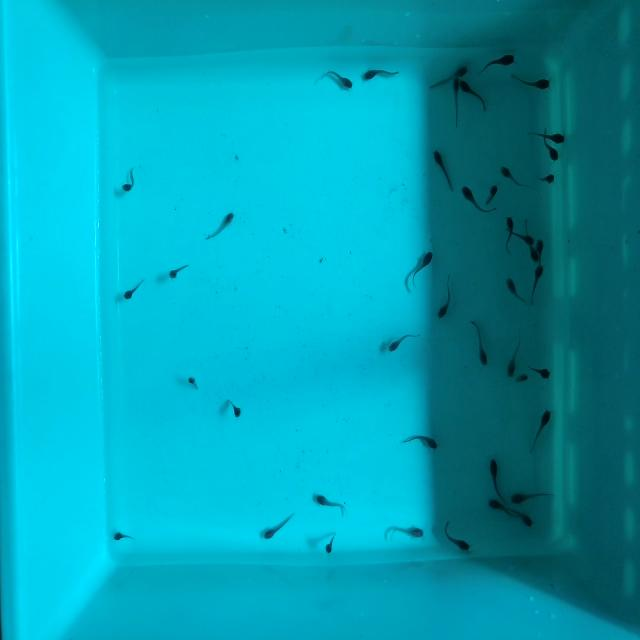lele: (460, 181, 498, 217), (526, 406, 552, 451), (406, 248, 435, 288), (474, 50, 518, 76), (466, 318, 488, 370), (205, 209, 238, 243), (457, 77, 490, 111), (427, 66, 467, 94), (430, 148, 456, 191), (262, 513, 298, 544), (440, 520, 473, 553), (504, 276, 534, 312), (436, 273, 457, 324), (497, 164, 531, 194), (536, 127, 561, 165), (386, 328, 421, 355), (506, 334, 526, 381), (323, 68, 358, 94), (486, 456, 506, 500), (312, 491, 347, 516), (510, 72, 552, 92), (526, 127, 567, 147), (400, 431, 440, 451), (528, 264, 546, 306), (120, 277, 148, 303), (508, 489, 554, 504), (451, 77, 464, 125), (121, 168, 142, 196), (525, 362, 553, 382), (362, 68, 399, 83), (387, 528, 424, 542), (167, 260, 191, 280), (511, 511, 536, 530), (226, 396, 245, 418), (505, 214, 514, 258), (484, 182, 499, 208), (324, 530, 339, 554), (484, 498, 507, 513), (533, 172, 557, 186), (514, 232, 536, 244), (184, 375, 200, 391), (112, 533, 136, 543), (513, 371, 530, 385), (538, 238, 546, 267), (530, 246, 537, 264)
